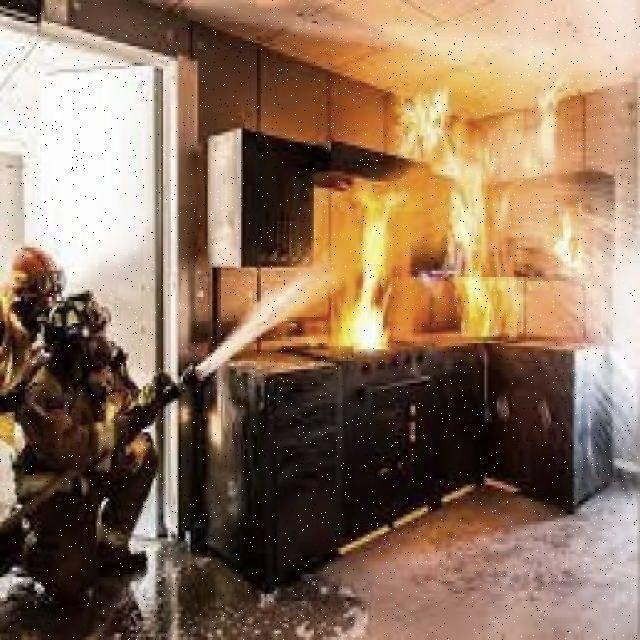fire: (343, 82, 522, 352)
